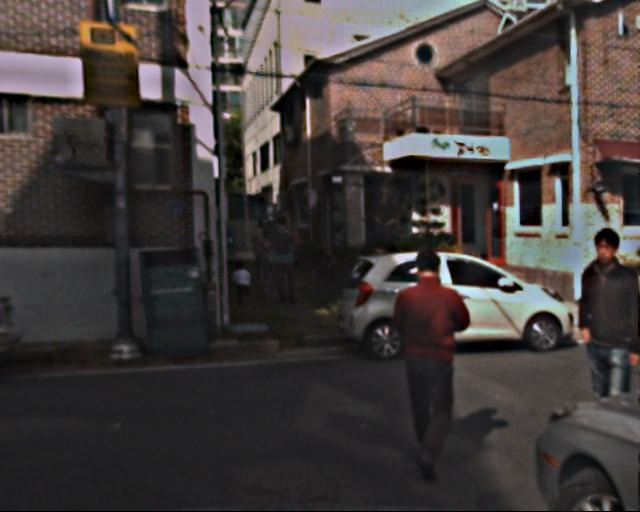person: (378, 248, 476, 479), (554, 226, 640, 464), (265, 216, 304, 309), (249, 218, 275, 281), (230, 261, 250, 308)
